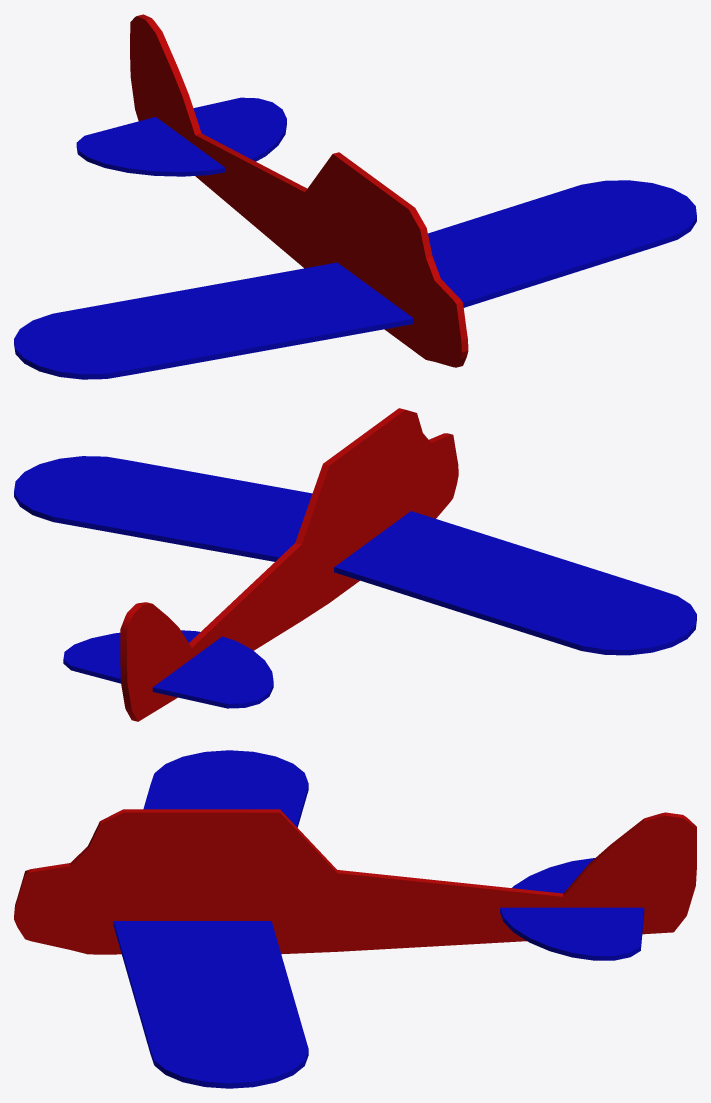
The model's file is Flugzeug.fbx.
3 renders of one model, top to bottom at view 1: azimuth 30°, elevation 25°; view 2: azimuth 150°, elevation 25°; view 3: azimuth 270°, elevation 25°, orthographic. The views are drawn at different scales.
Visible parts, largest first — view 1: pPlane9; view 2: pPlane9; view 3: pPlane9.
Part boxes in pixels (x1,y1,x2,y2): pPlane9: [14, 14, 696, 379]; pPlane9: [14, 408, 696, 721]; pPlane9: [14, 750, 696, 1088].
Size of the model in its own units: 6.54 by 1.3 by 5.67.
